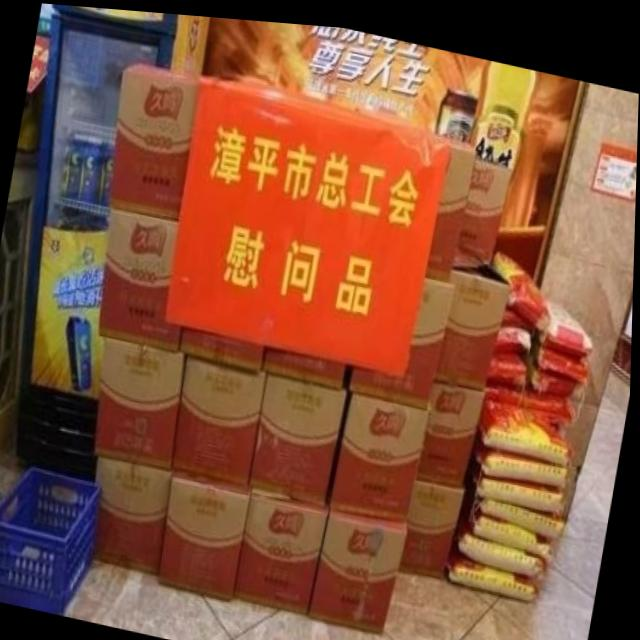box: (110, 60, 200, 218), (351, 270, 456, 404), (250, 368, 350, 503), (173, 354, 269, 491), (332, 386, 431, 518), (99, 204, 185, 350), (311, 504, 410, 628), (97, 335, 189, 468), (161, 471, 254, 599), (236, 492, 333, 609), (436, 257, 512, 384), (97, 453, 174, 572), (426, 130, 478, 275), (419, 374, 487, 481), (402, 471, 468, 572), (454, 153, 512, 257), (180, 322, 268, 369), (263, 341, 349, 382)
